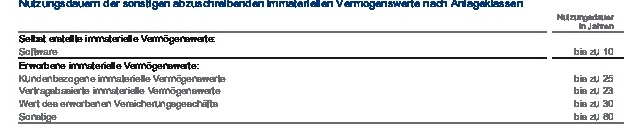table: (0, 0, 639, 136)
